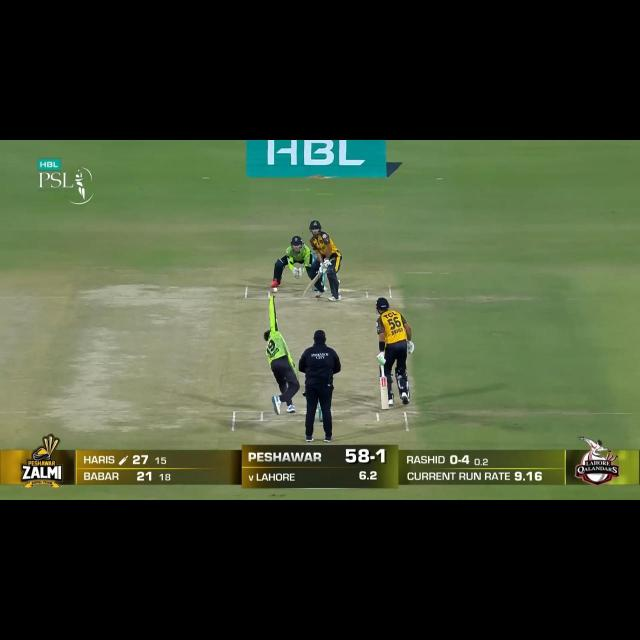bat: (300, 272, 322, 298), (377, 376, 391, 412)
toe: (380, 404, 390, 411), (300, 291, 309, 297)
